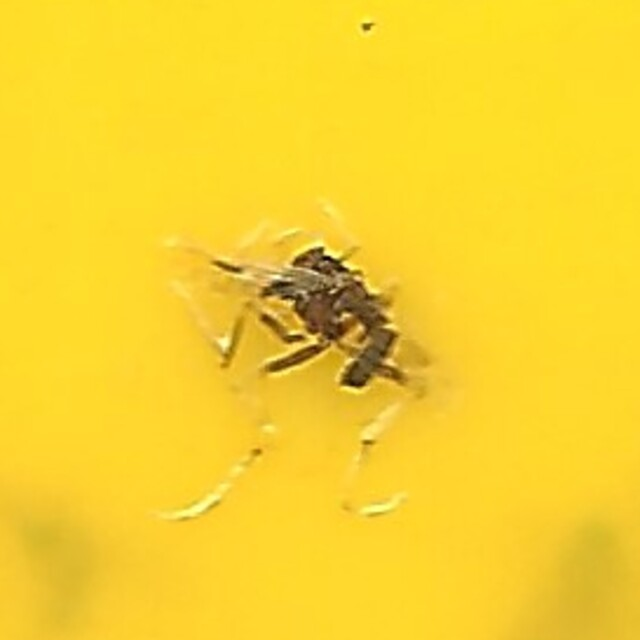Nematocera: (234, 233, 406, 407)
